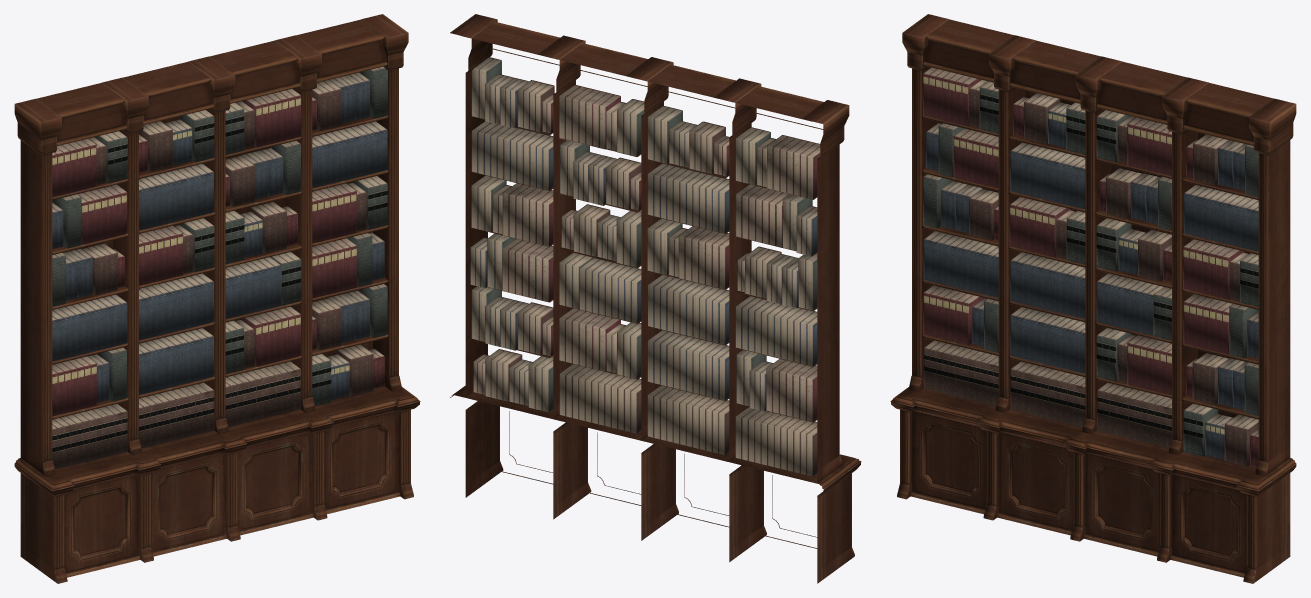
Rendered from bookcase.glb.
The picture shows the model from 3 angles, left to right: view 1: azimuth 30°, elevation 25°; view 2: azimuth 150°, elevation 25°; view 3: azimuth 330°, elevation 25°; orthographic projection.
Visible parts, largest first — view 1: bottom_lp.001_bookcase_0, Cube.026_book-stacks_0; view 2: Cube.026_book-stacks_0, bottom_lp.001_bookcase_0; view 3: bottom_lp.001_bookcase_0, Cube.026_book-stacks_0.
Part boxes in pixels (left/top/right/bottom): bottom_lp.001_bookcase_0: left=14, top=14, right=420, bottom=583; Cube.026_book-stacks_0: left=52, top=66, right=387, bottom=469; Cube.026_book-stacks_0: left=470, top=57, right=820, bottom=476; bottom_lp.001_bookcase_0: left=450, top=14, right=861, bottom=583; bottom_lp.001_bookcase_0: left=890, top=14, right=1296, bottom=583; Cube.026_book-stacks_0: left=923, top=67, right=1258, bottom=466.
Bounding box in the file's own units: 3.84 × 4.51 × 0.6784.
2 materials, 2 textured.
